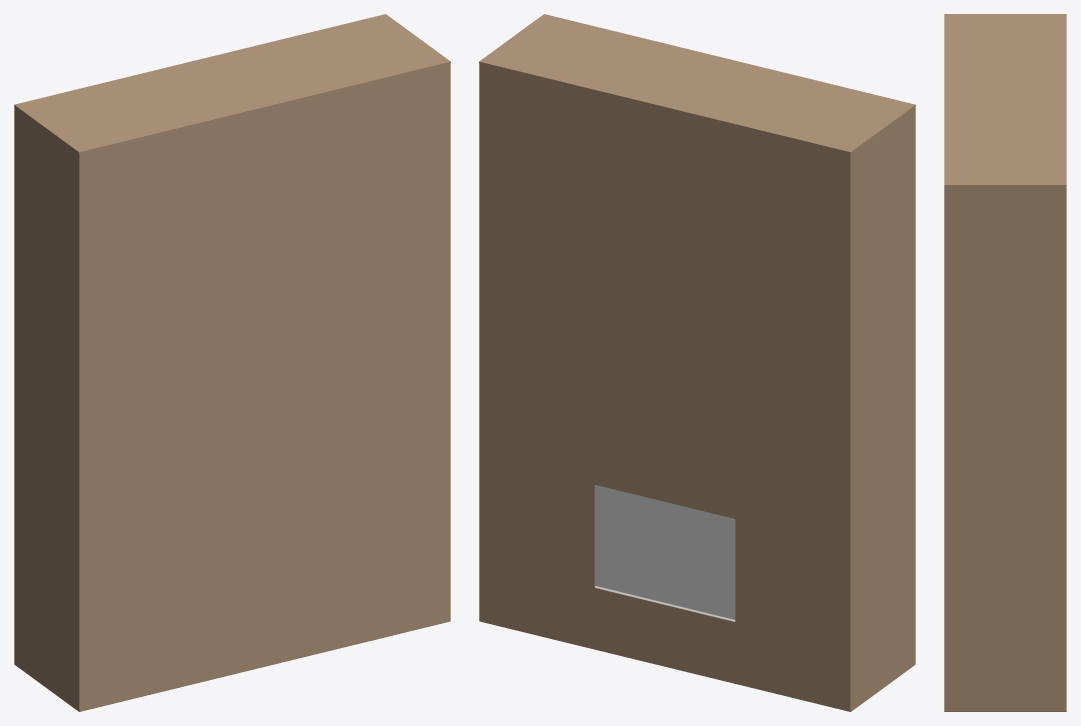
The model's file is minis-pouch-box-closed.glb.
The picture shows the model from 3 angles, left to right: view 1: azimuth 30°, elevation 25°; view 2: azimuth 150°, elevation 25°; view 3: azimuth 270°, elevation 25°; orthographic projection. The views are drawn at different scales.
Visible parts, largest first — view 1: dbox_body, dbox_lid; view 2: dbox_body, dbox_lid, dbox_film; view 3: dbox_body, dbox_lid.
Boxes of the visible parts, box(x1,y1,x2,y2) form: dbox_body: box(14, 62, 450, 711); dbox_lid: box(14, 14, 450, 153); dbox_body: box(479, 62, 915, 711); dbox_lid: box(479, 14, 915, 153); dbox_film: box(595, 485, 734, 620); dbox_body: box(944, 185, 1066, 711); dbox_lid: box(944, 14, 1066, 185).
Bounding box in the file's own units: 0.132 × 0.19 × 0.04.
